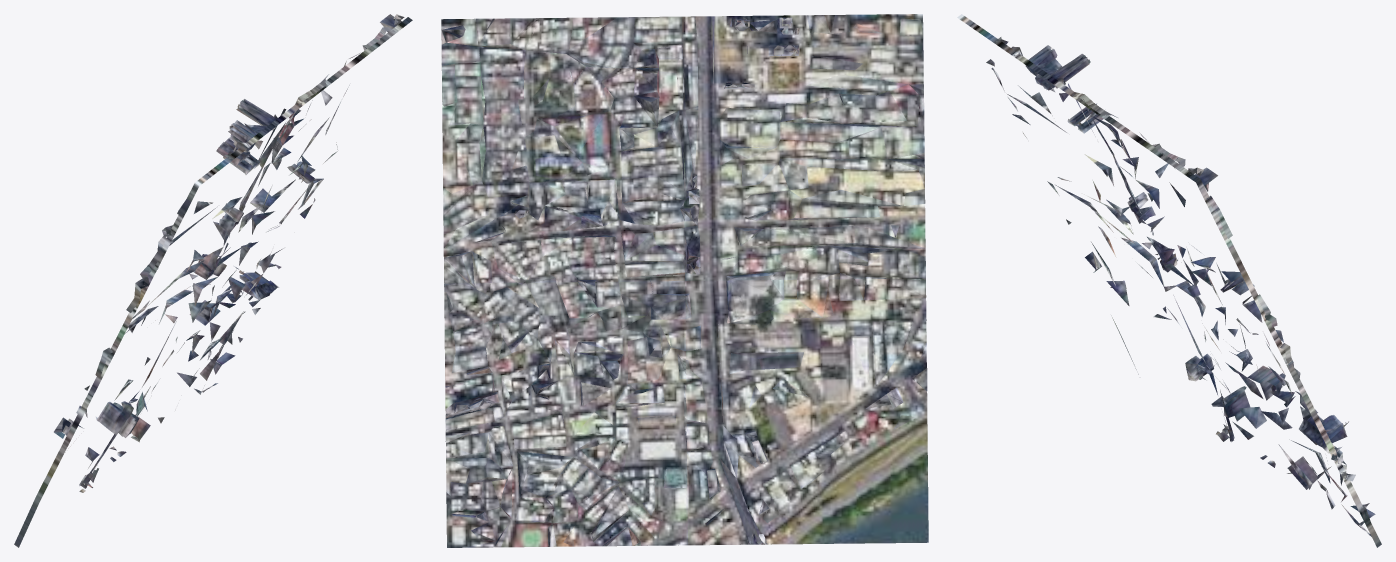
3 renders of one model, left to right at view 1: azimuth 30°, elevation 25°; view 2: azimuth 150°, elevation 25°; view 3: azimuth 270°, elevation 25°, orthographic. The views are drawn at different scales.
Bounding box in the file's own units: 1220 × 1145 × 1030.
2 materials, 2 textured.
